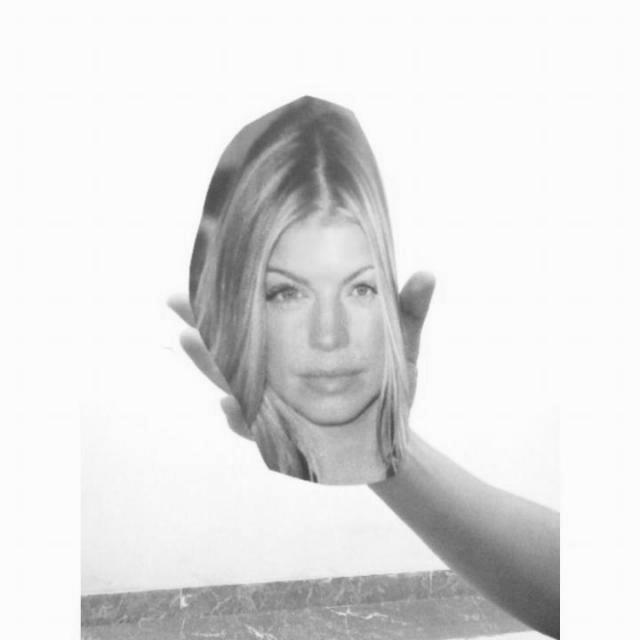fake: (154, 77, 440, 510)
